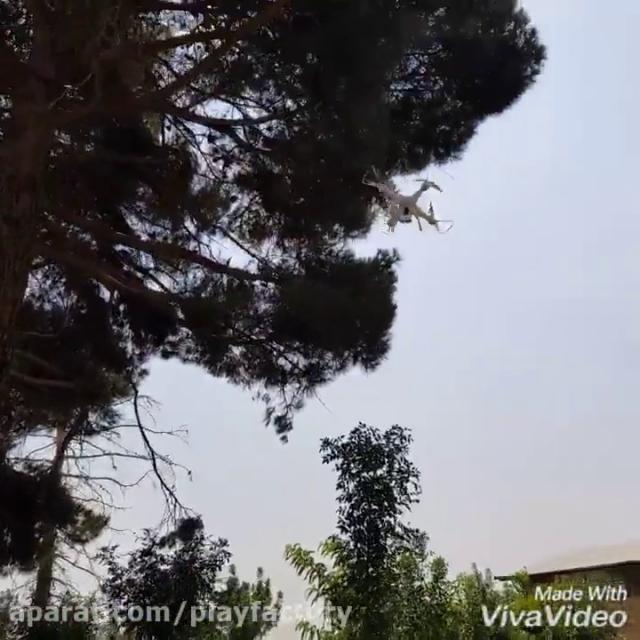drone: (362, 159, 455, 242)
